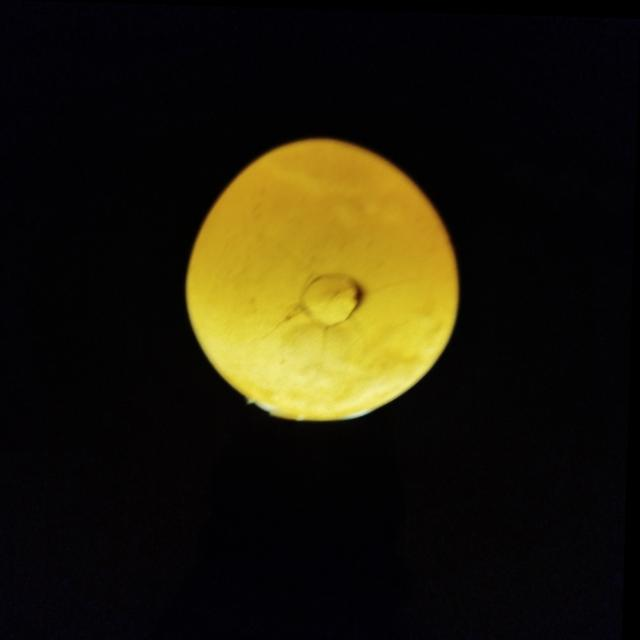Camara de Ar: (263, 139, 424, 197)
Rachadura: (270, 271, 404, 358)
